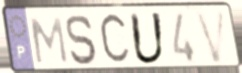4: (171, 11, 198, 66)
C: (97, 10, 133, 68)
M: (28, 15, 70, 66)
S: (64, 13, 100, 67)
U: (128, 11, 168, 67)
V: (193, 9, 228, 66)
